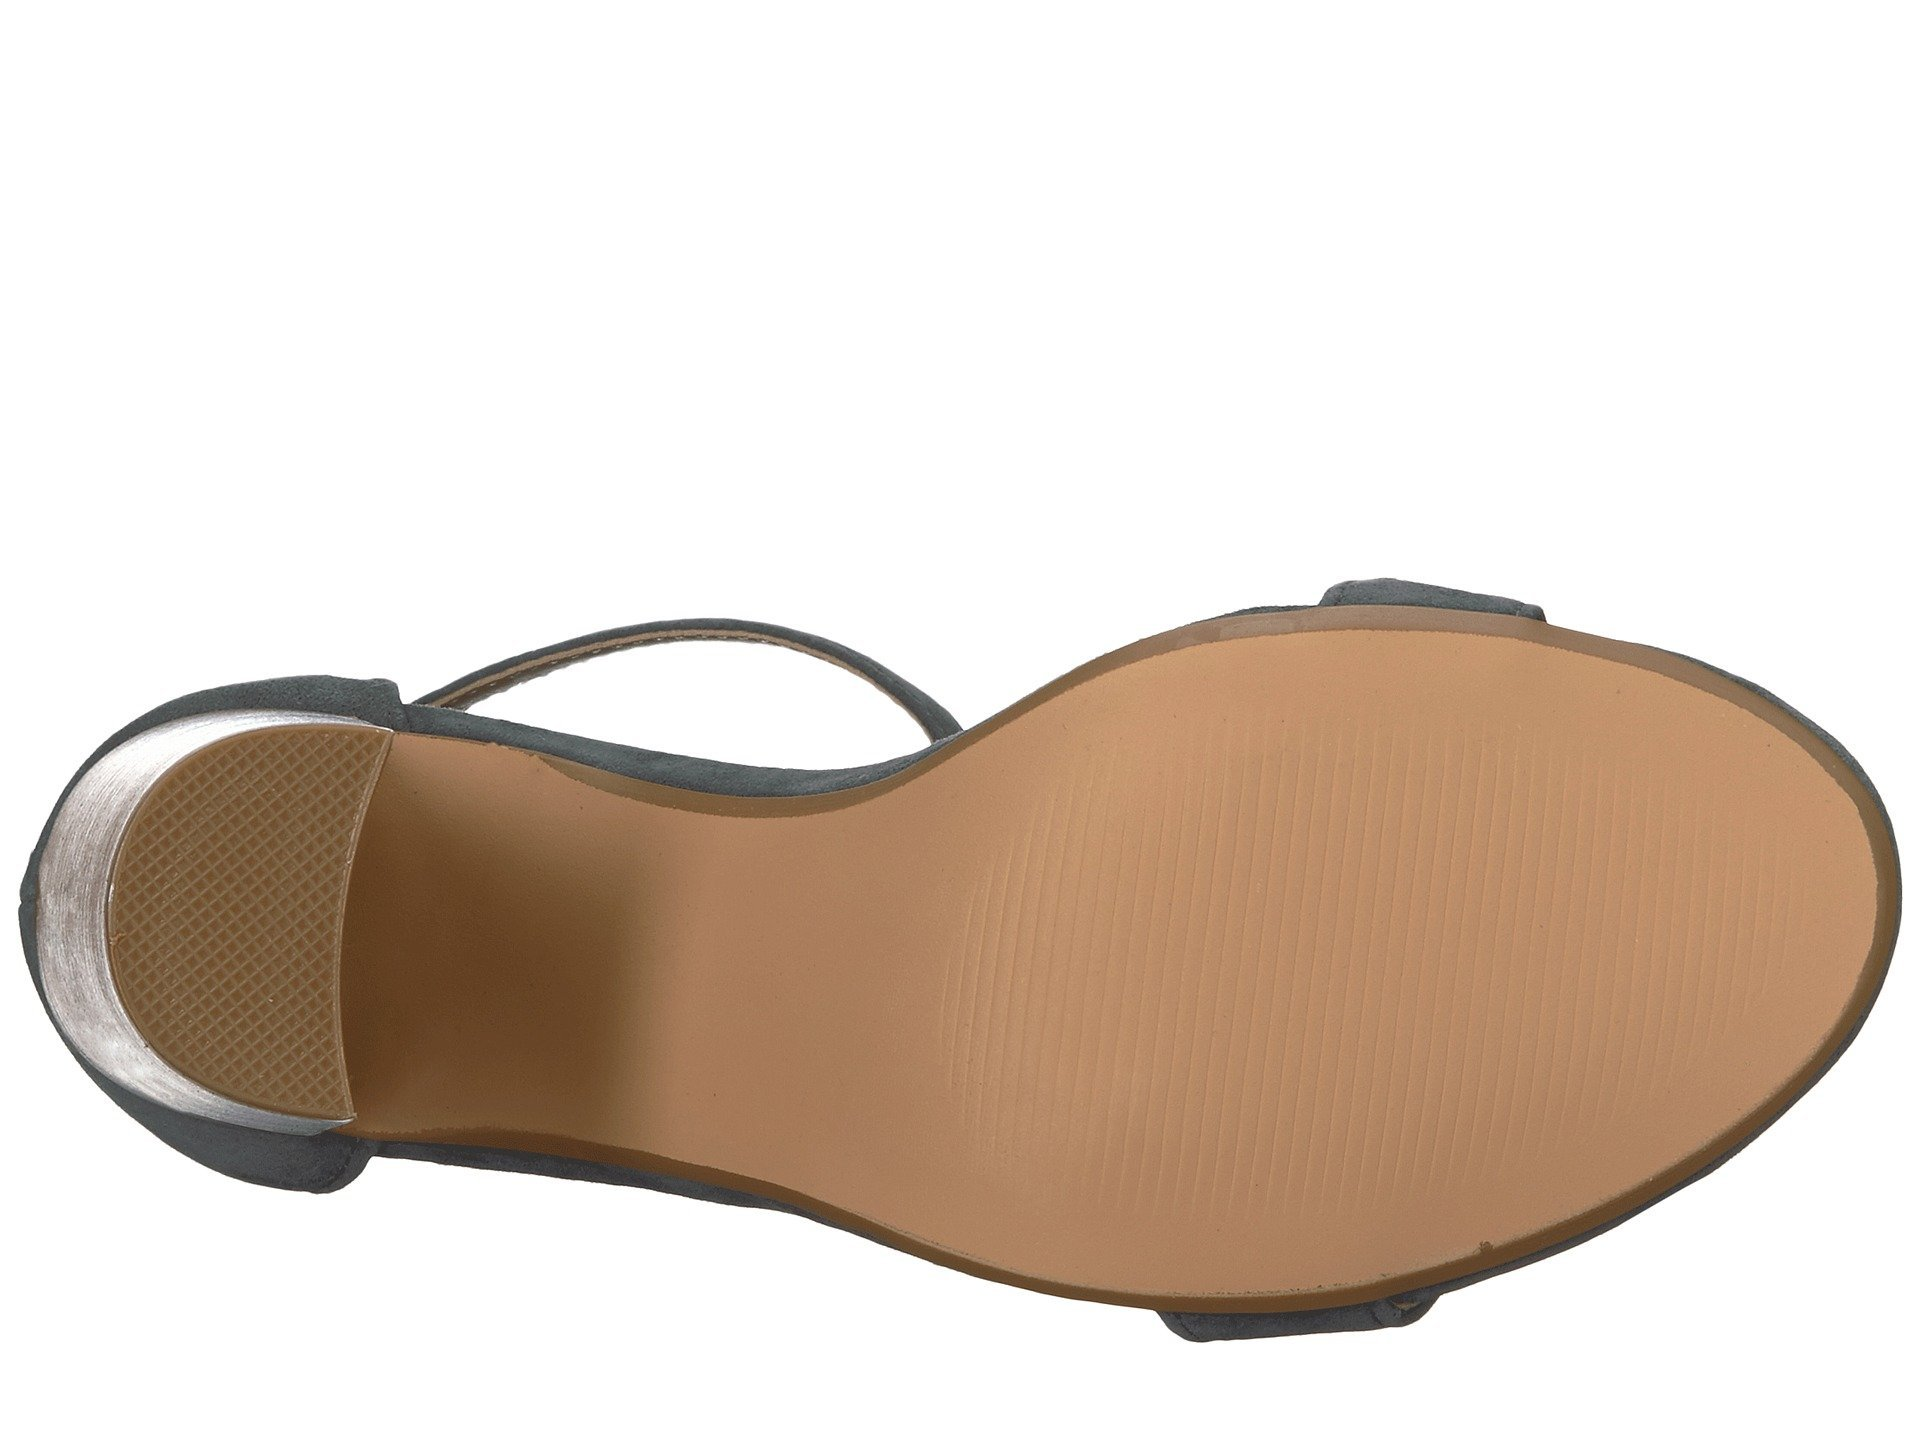line: (1079, 737, 1710, 1175)
quad: (190, 777, 327, 1077)
